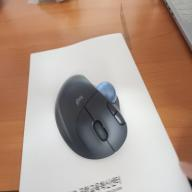mouse: (53, 71, 130, 162)
